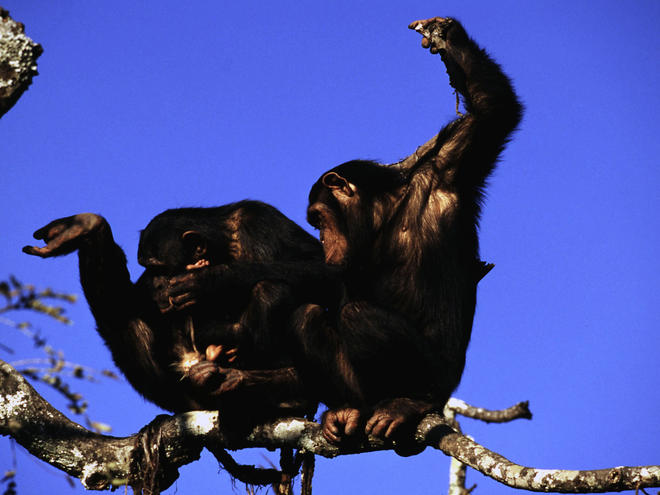Chimpanzee: (60, 199, 312, 411), (307, 130, 475, 408)
